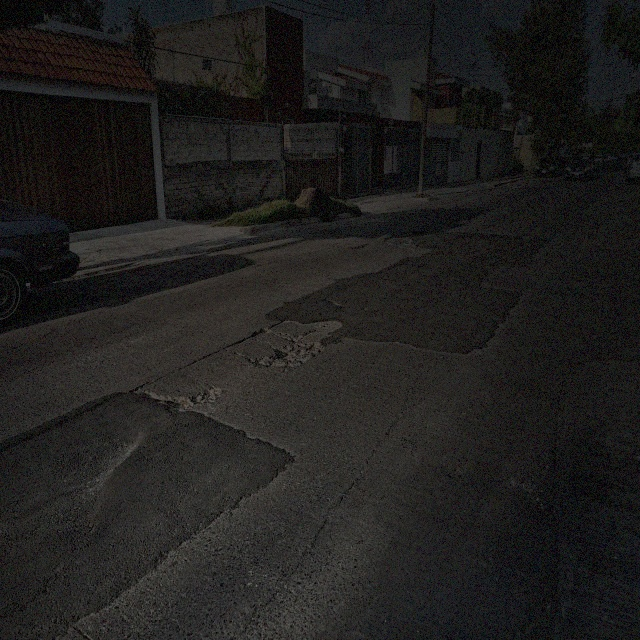pothole: (158, 391, 196, 411), (252, 323, 270, 340), (325, 296, 346, 308)
